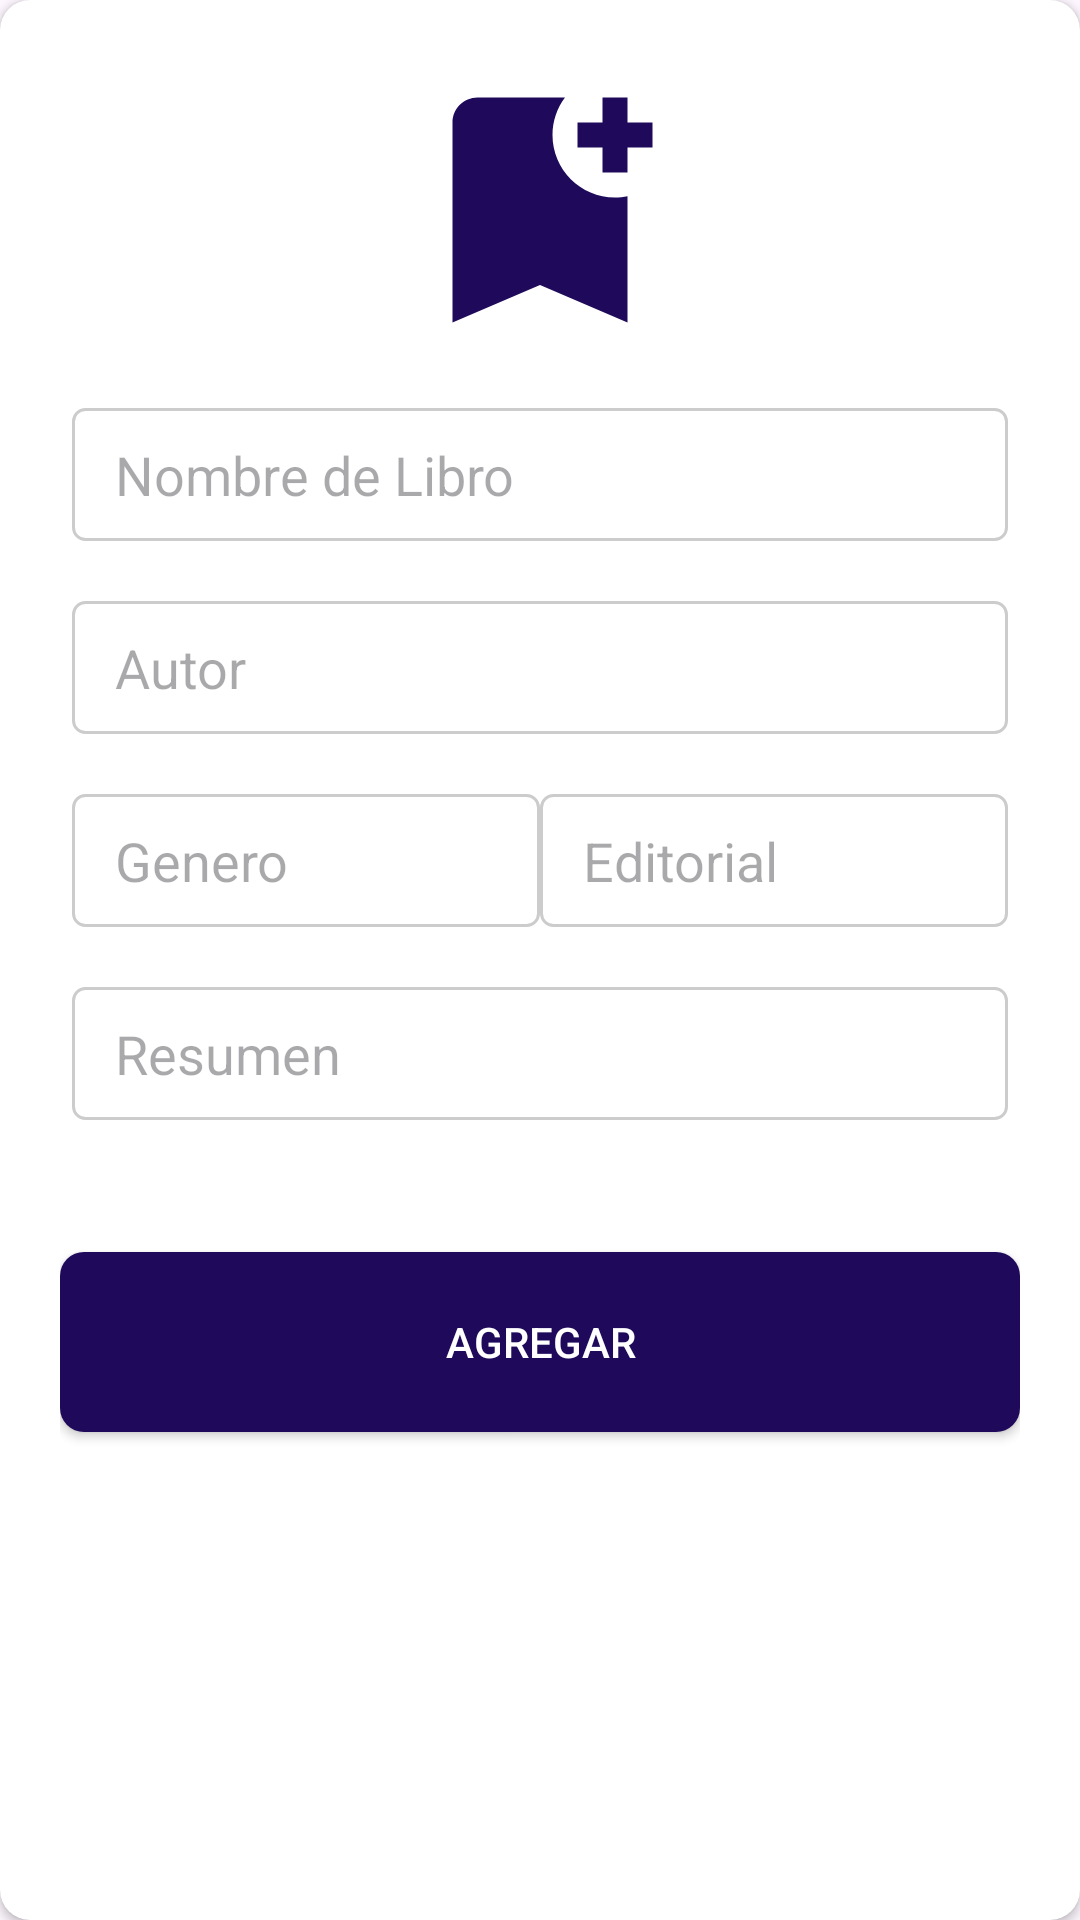

Icons on this 1080w x 1920h Android screen, each with the point to tap as (x=x, y=y):
add: (x=552, y=210)
